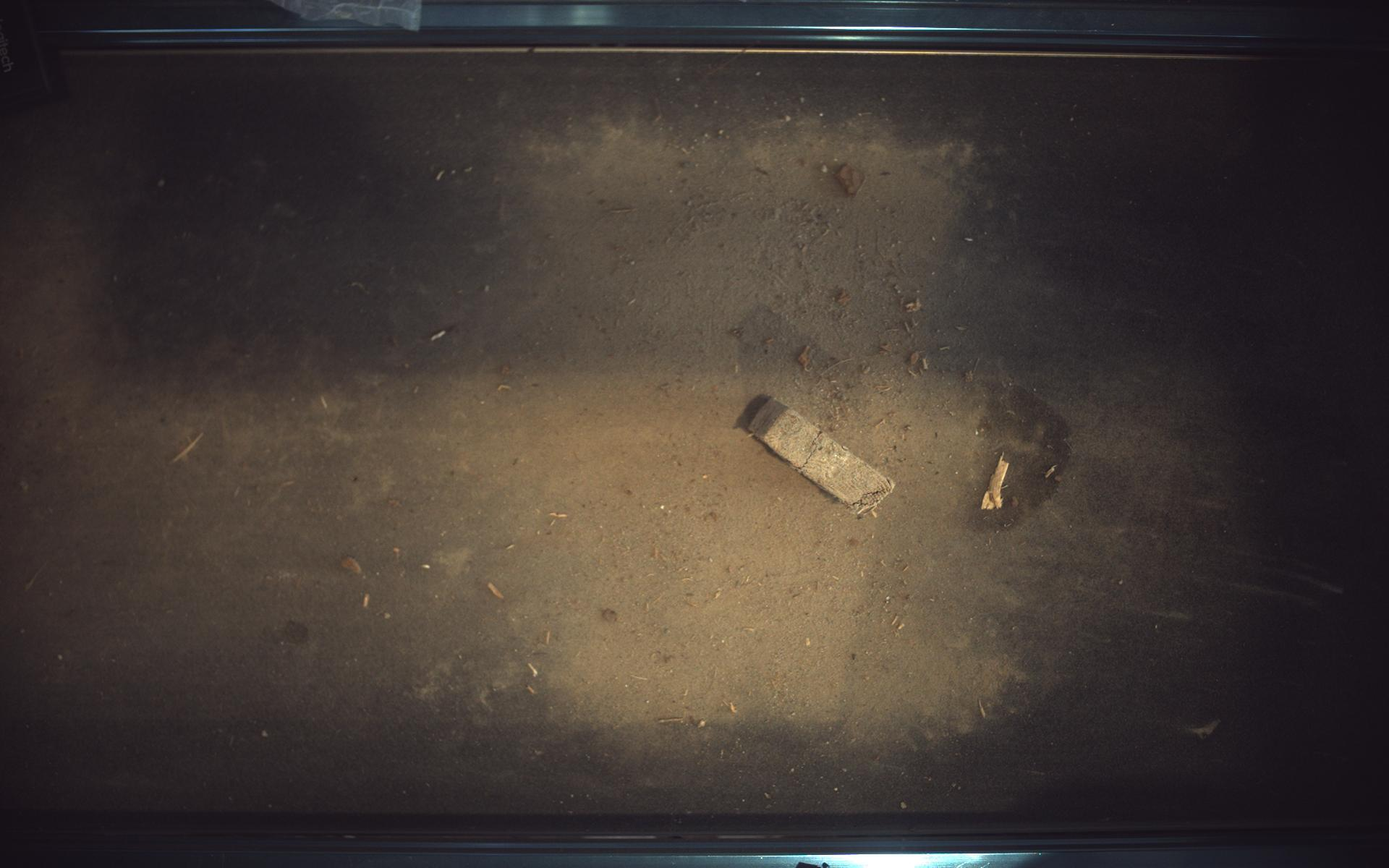wood: (750, 399, 895, 515)
